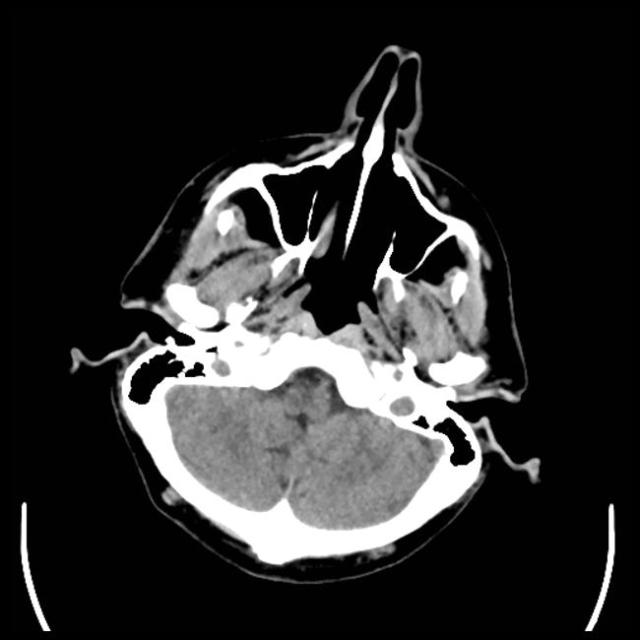lesion: (70, 42, 543, 586)
